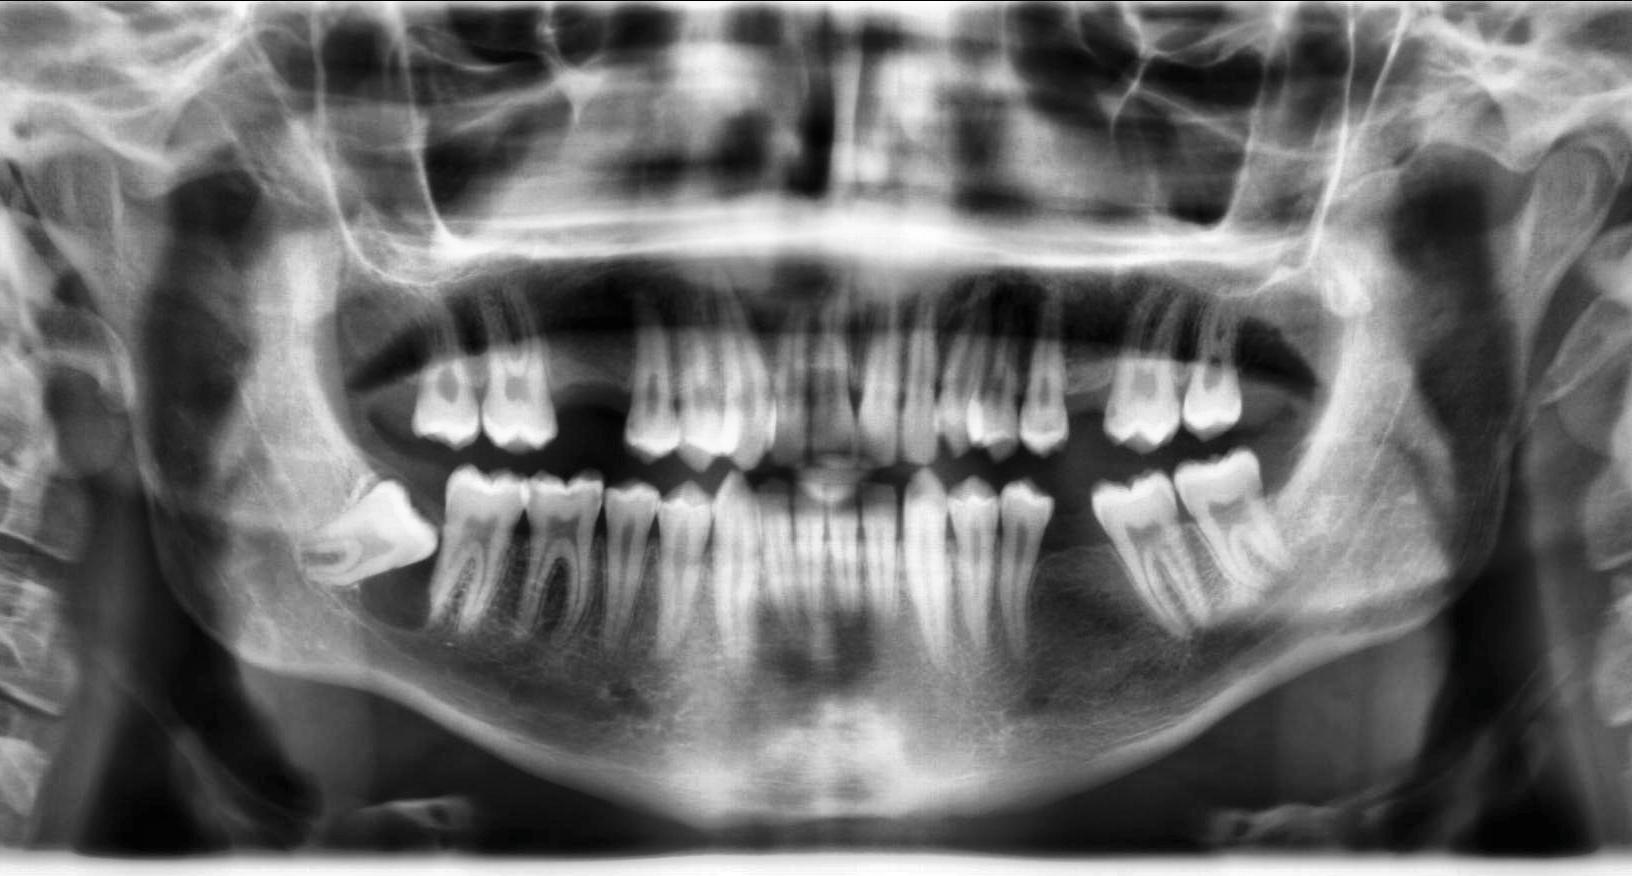dentigeroz: (360, 466, 446, 628)
